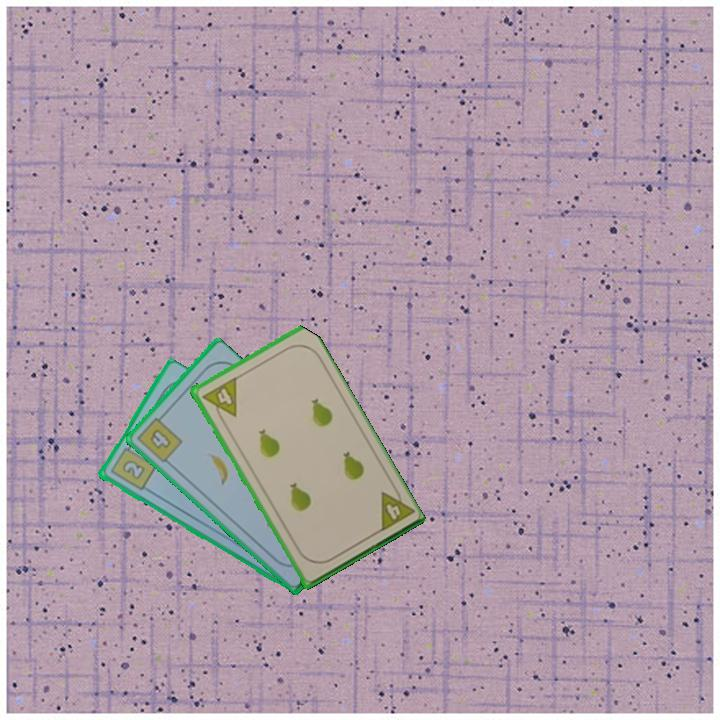2b: (106, 440, 158, 493)
4b: (133, 410, 185, 466)
4p: (375, 481, 416, 535), (198, 374, 240, 425)
